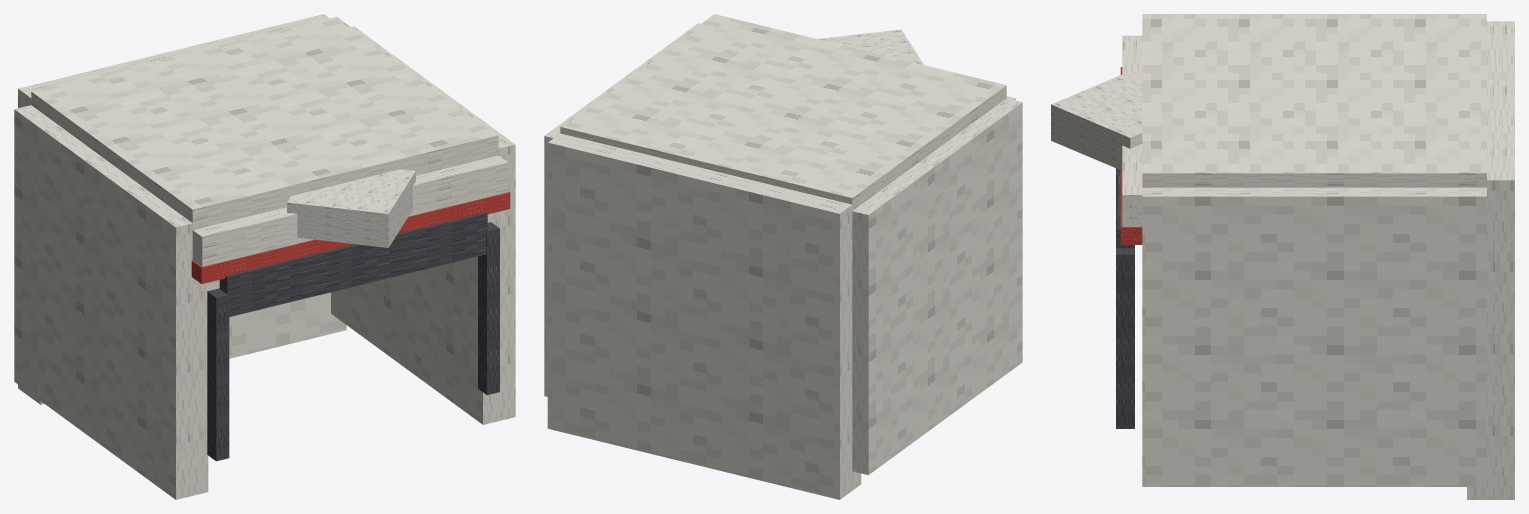
File: capucha_de_asesino.glb
3 views of the same model, side by side, from view 1: azimuth 30°, elevation 25°; view 2: azimuth 150°, elevation 25°; view 3: azimuth 270°, elevation 25° (orthographic). The views are drawn at different scales.
Parts seen in each view (by area): view 1: _MeshInstance3D_34, _MeshInstance3D_35, _MeshInstance3D_36, _MeshInstance3D_41, _MeshInstance3D_38, _MeshInstance3D_39, _MeshInstance3D_37, _MeshInstance3D_40, _MeshInstance3D_42, _MeshInstance3D_43; view 2: _MeshInstance3D_37, _MeshInstance3D_34, _MeshInstance3D_35, _MeshInstance3D_39, _MeshInstance3D_36; view 3: _MeshInstance3D_36, _MeshInstance3D_34, _MeshInstance3D_37, _MeshInstance3D_39, _MeshInstance3D_43, _MeshInstance3D_38, _MeshInstance3D_40.
Boxes of the visible parts, x1,y1,x2,y2 form: _MeshInstance3D_34: [31, 17, 498, 229]; _MeshInstance3D_35: [14, 105, 208, 499]; _MeshInstance3D_36: [331, 26, 515, 424]; _MeshInstance3D_41: [219, 212, 487, 316]; _MeshInstance3D_38: [192, 155, 508, 266]; _MeshInstance3D_39: [287, 169, 415, 247]; _MeshInstance3D_37: [18, 14, 346, 404]; _MeshInstance3D_40: [191, 191, 510, 283]; _MeshInstance3D_42: [207, 288, 229, 461]; _MeshInstance3D_43: [478, 222, 499, 395]; _MeshInstance3D_37: [547, 133, 861, 499]; _MeshInstance3D_34: [560, 14, 1006, 210]; _MeshInstance3D_35: [852, 98, 1022, 474]; _MeshInstance3D_39: [818, 29, 923, 64]; _MeshInstance3D_36: [544, 23, 700, 396]; _MeshInstance3D_36: [1142, 187, 1486, 486]; _MeshInstance3D_34: [1142, 14, 1486, 187]; _MeshInstance3D_37: [1467, 21, 1514, 499]; _MeshInstance3D_39: [1051, 71, 1142, 170]; _MeshInstance3D_43: [1116, 247, 1134, 428]; _MeshInstance3D_38: [1122, 35, 1142, 226]; _MeshInstance3D_40: [1120, 67, 1142, 244].
Size of the model in its own units: 0.261 by 0.225 by 0.2895.
Materials: 3 (3 with a texture image).
